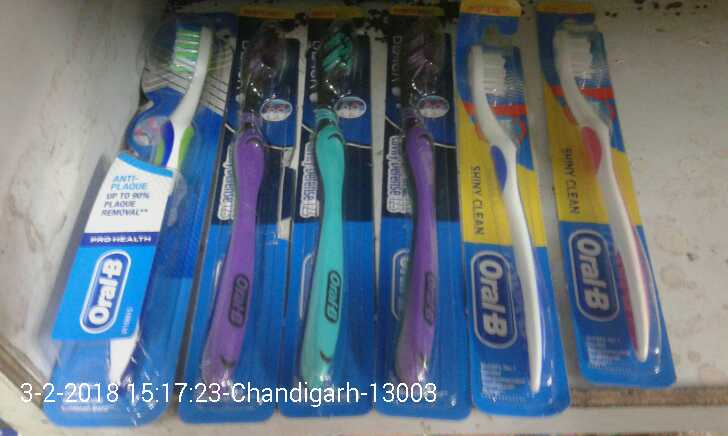oralb: (91, 4, 216, 393), (551, 22, 660, 360), (455, 33, 542, 391), (207, 20, 285, 387), (383, 28, 447, 391), (303, 32, 357, 395)
